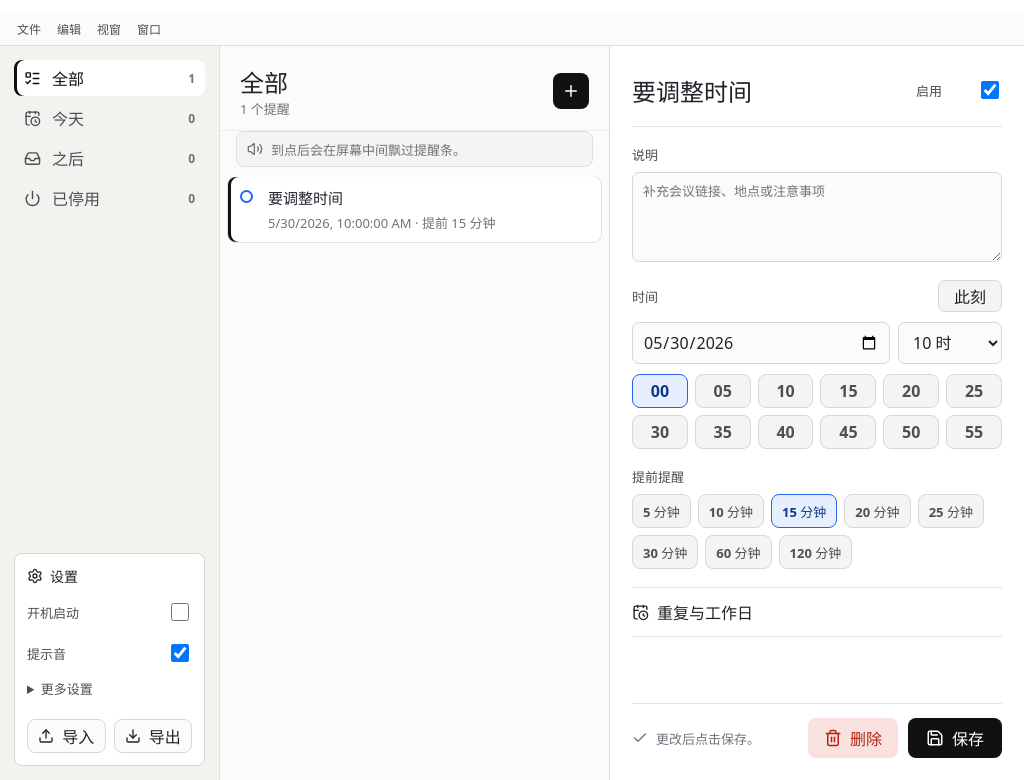
Test: renderer reminder creation › sets the reminder time to the nearest five-minute step when now is clicked
The width and height of the screenshot is (1024, 780).
Click the button with class "now-button".
click(970, 296)  # box [938, 280, 1002, 312]
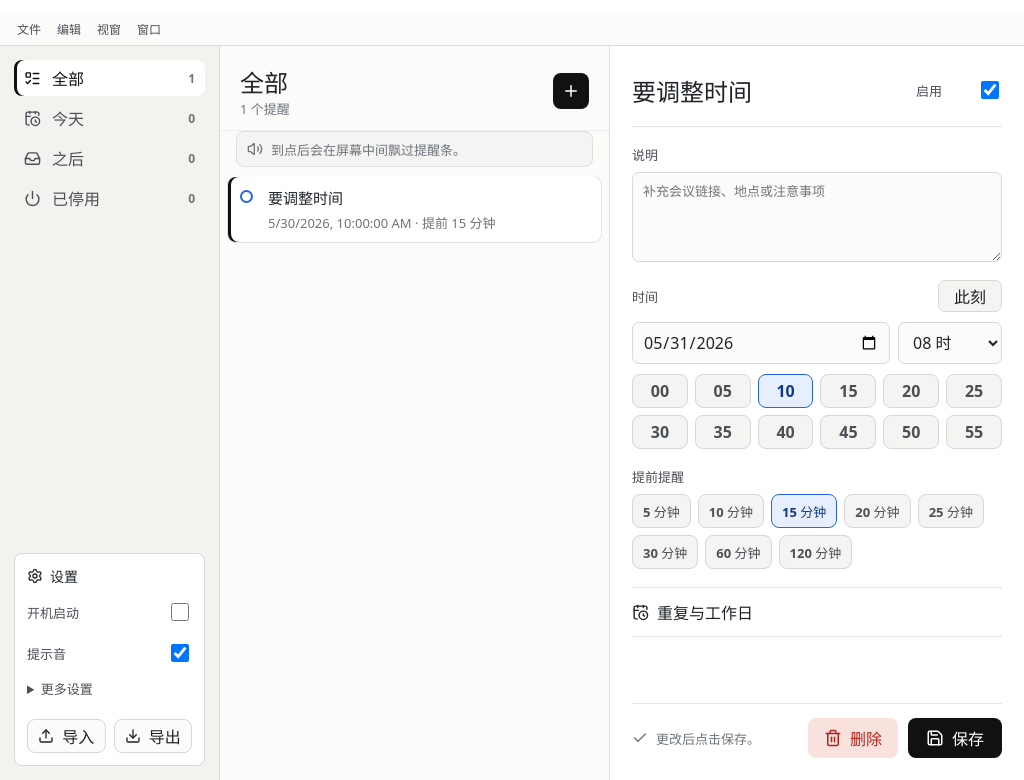
Expected: the button with class "minute-option" reads "10", [758, 374, 814, 408]
Expected: the date field with id "startDate" holds "2026-05-31", [632, 322, 890, 364]
Expected: the dropdown with class "time-hour-select" shows "08 时", [898, 322, 1002, 364]
